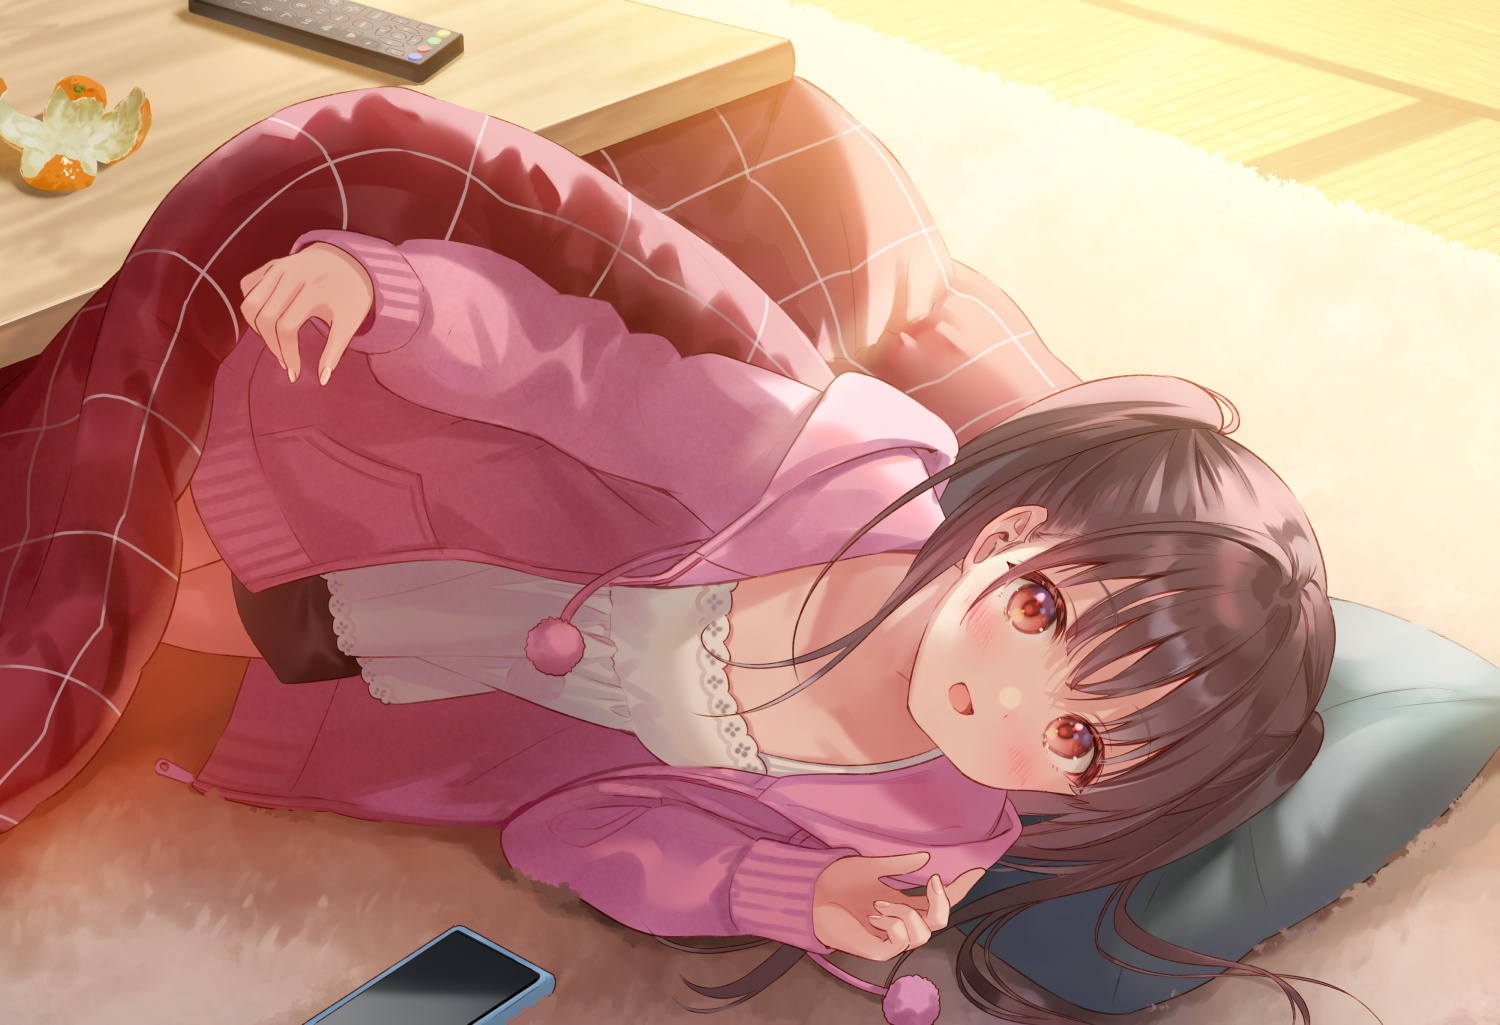纸片人正脸: (884, 374, 1325, 836)
